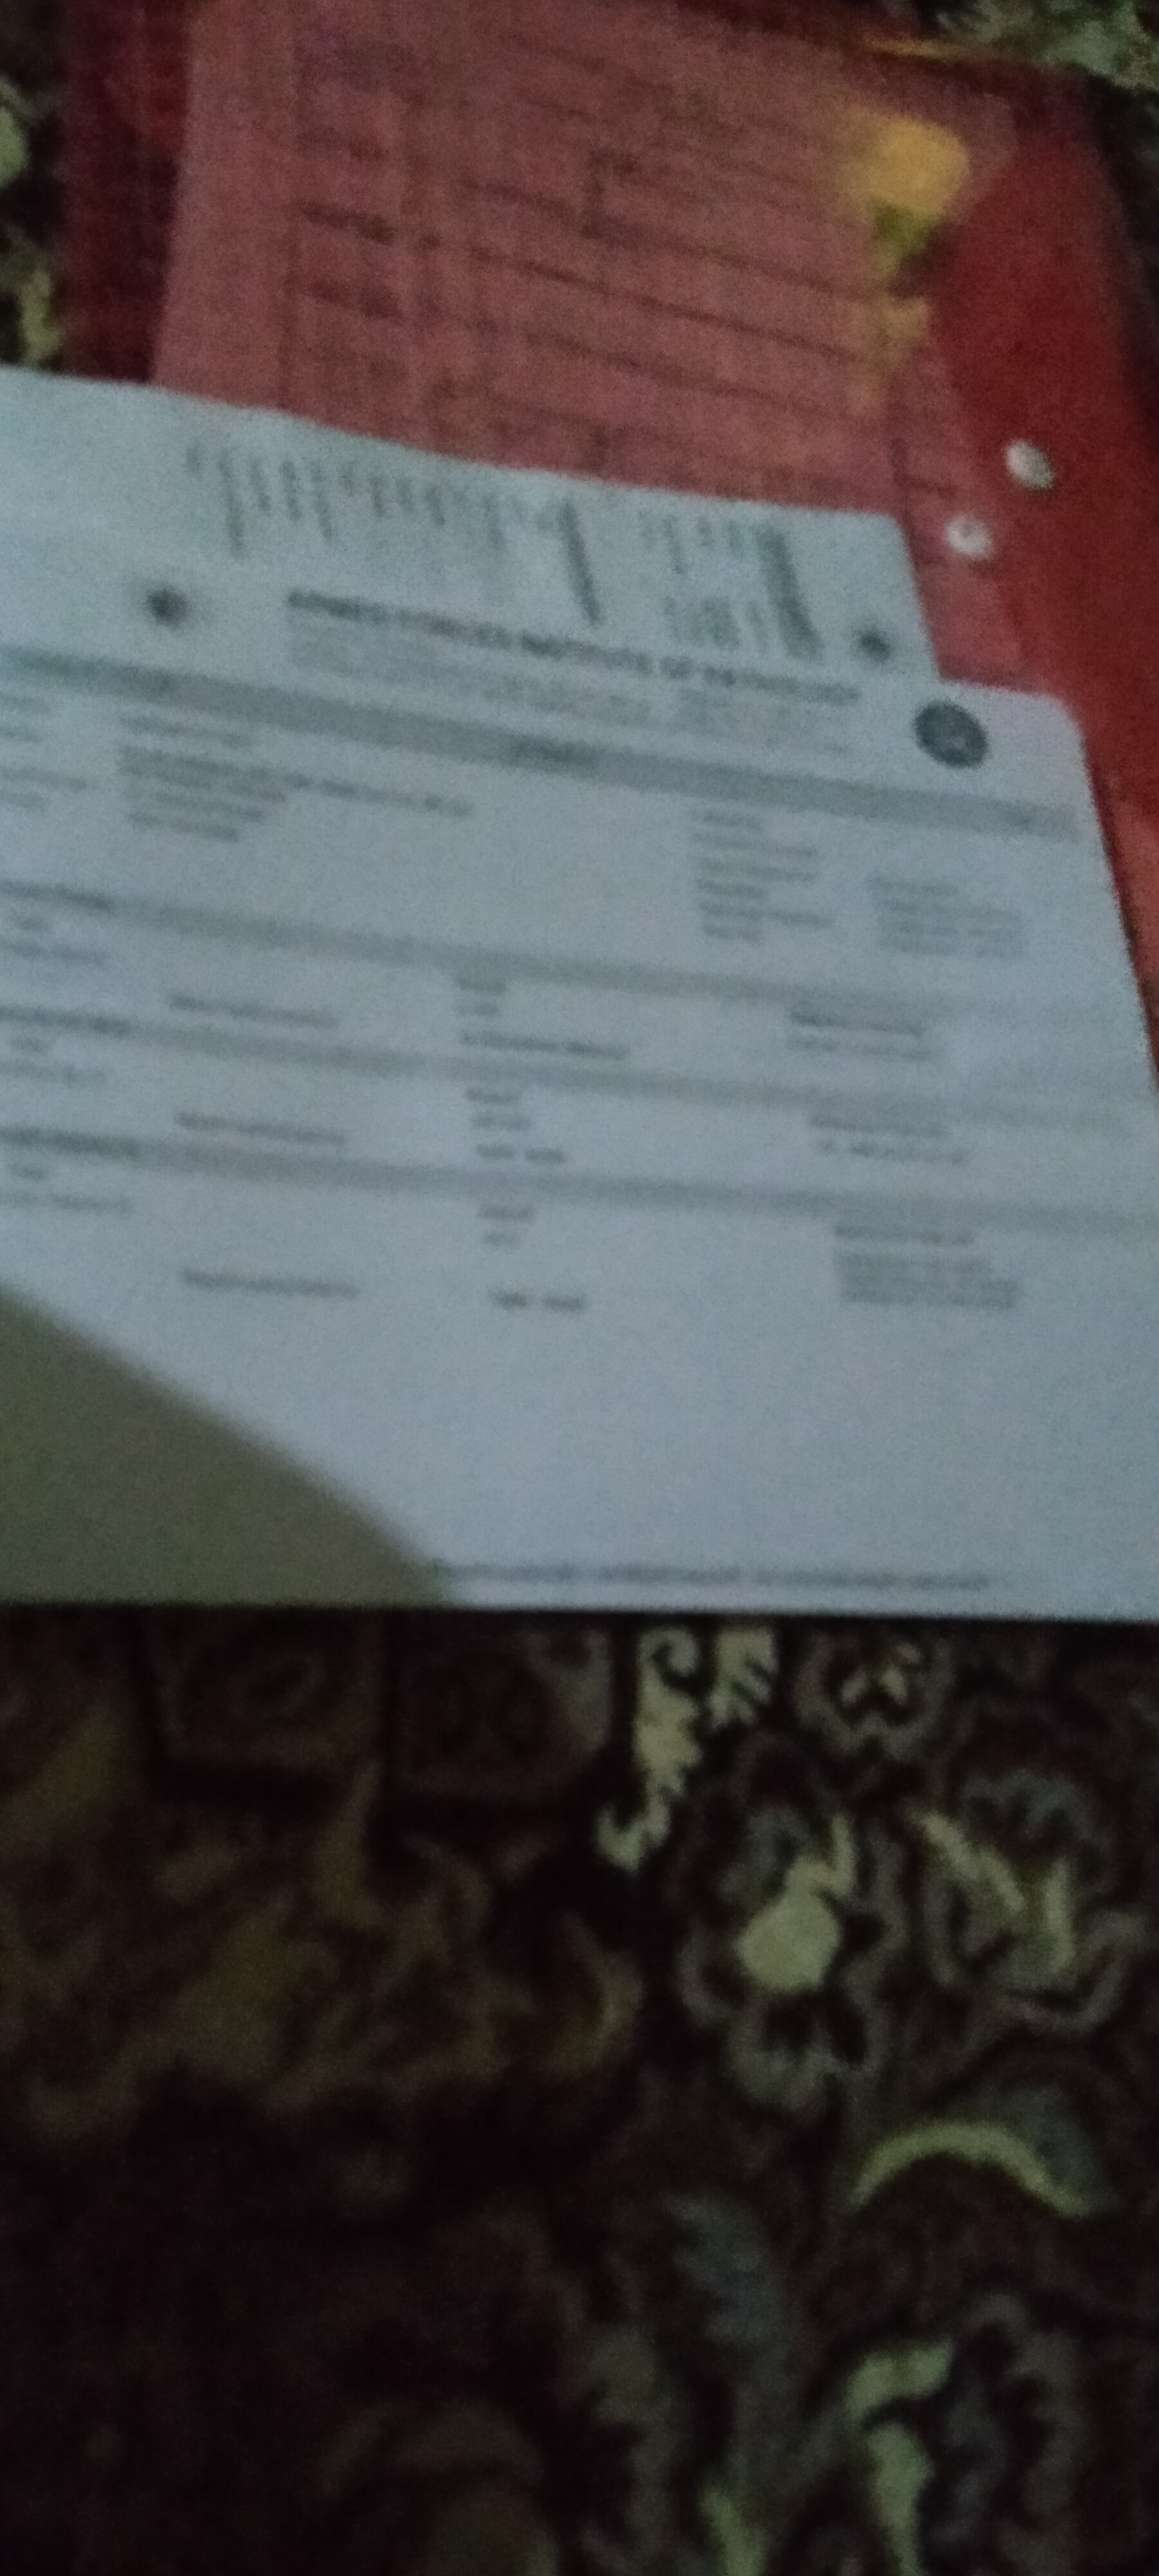report: (3, 874, 1151, 1341)
